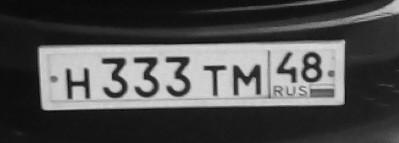license-plateSW: (39, 41, 345, 105)
